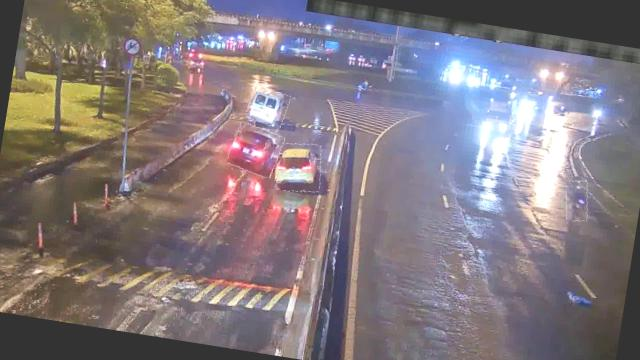Bike: (562, 179, 592, 222)
Bus: (246, 85, 290, 127)
Car: (228, 122, 284, 177), (272, 140, 325, 196)
